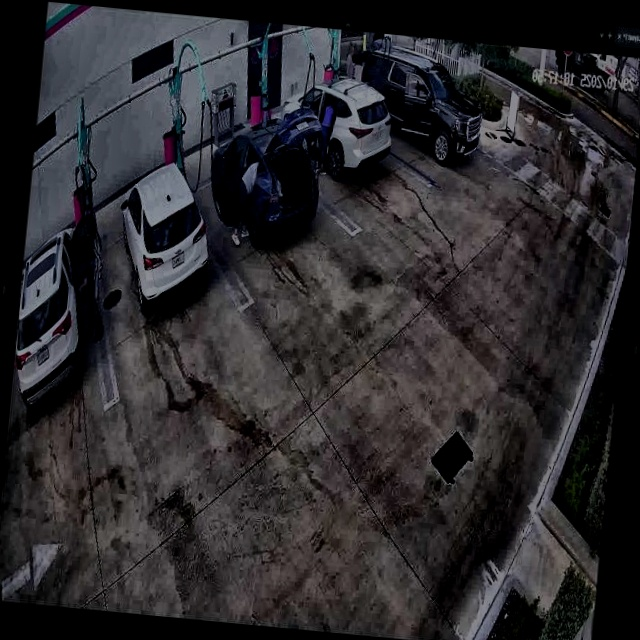Car: (203, 103, 326, 250), (353, 41, 488, 169), (113, 160, 216, 315), (275, 68, 396, 182)
